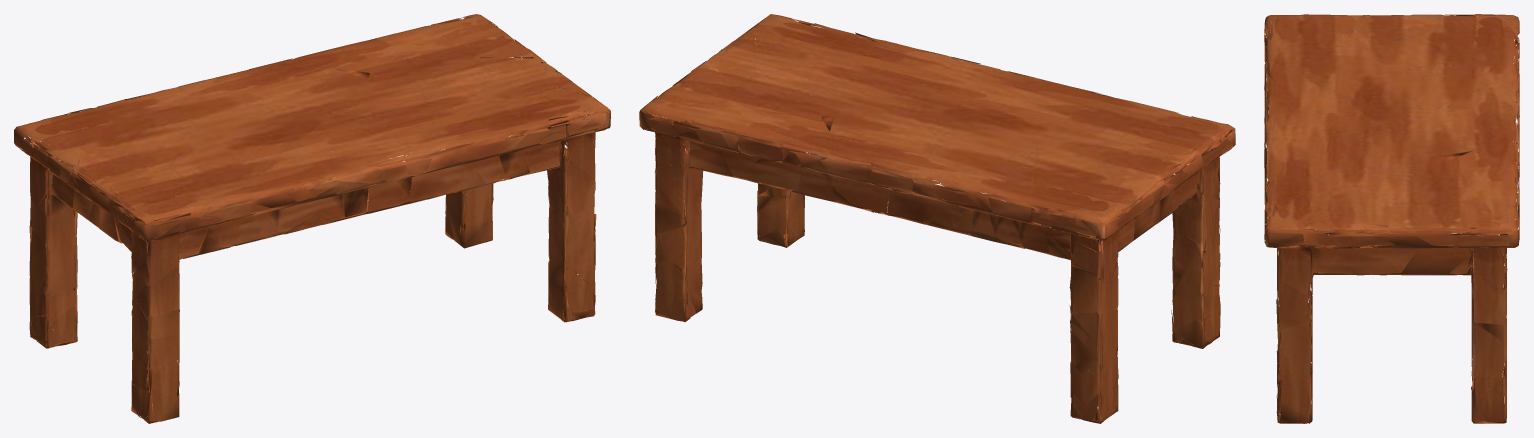
Rendered from table_dining.glb.
3 views of the same model, side by side, from view 1: azimuth 30°, elevation 25°; view 2: azimuth 150°, elevation 25°; view 3: azimuth 270°, elevation 25° (orthographic). The views are drawn at different scales.
Parts seen in each view (by area): view 1: table_dining; view 2: table_dining; view 3: table_dining.
Boxes of the visible parts, <box> form: table_dining: <box>14,14,610,423</box>; table_dining: <box>639,14,1235,423</box>; table_dining: <box>1264,14,1519,423</box>.
Bounding box in the file's own units: 1.86 × 0.8 × 0.9234.
1 material, 1 textured.
